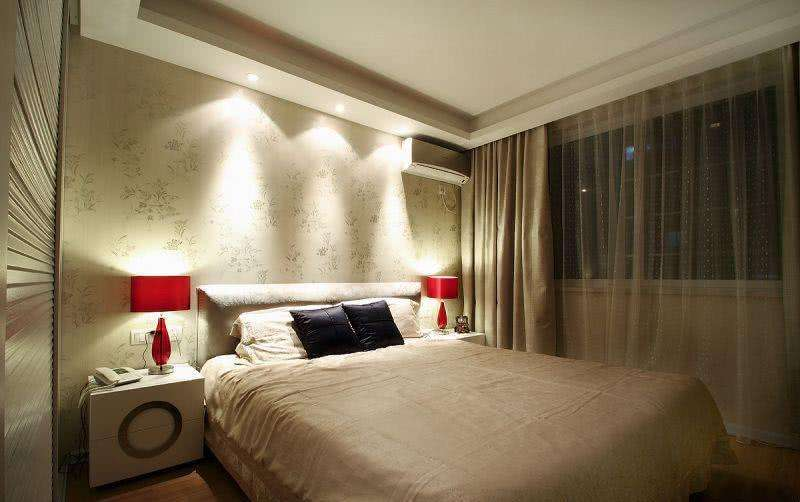床: (179, 339, 742, 498)
枕头: (231, 296, 420, 363)
灯: (126, 257, 193, 375), (420, 270, 461, 331), (332, 98, 349, 120), (390, 125, 414, 138), (244, 73, 261, 85)
